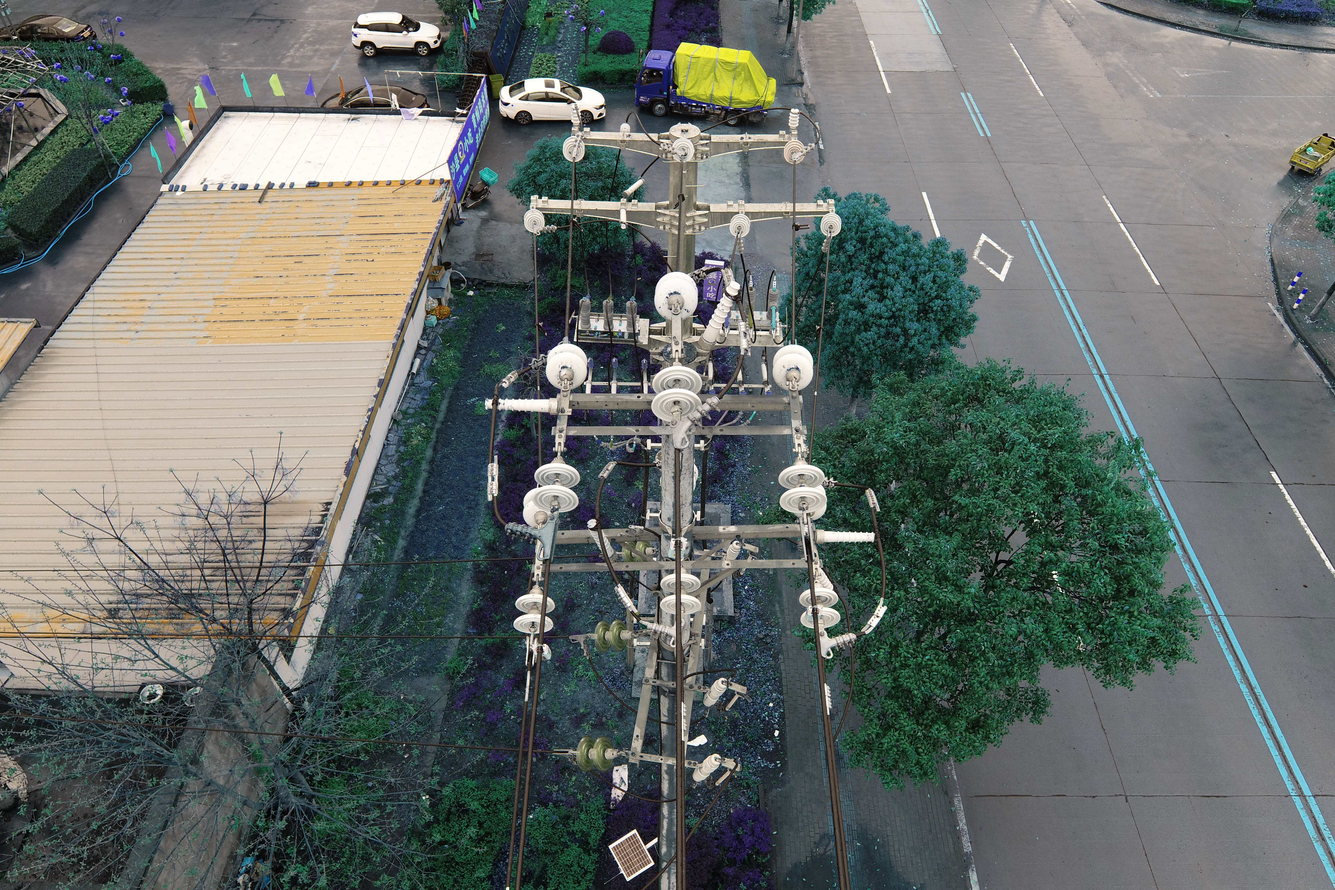severe_soiling_no_discharge_whole: (651, 271, 701, 324), (483, 394, 562, 416)
